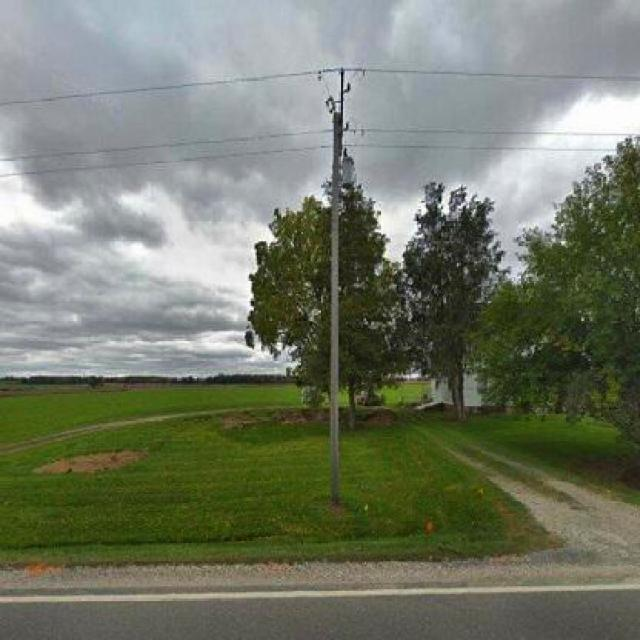pole: (329, 71, 349, 505)
wire: (0, 68, 640, 106), (0, 143, 622, 178), (0, 133, 302, 162), (302, 126, 634, 135)
